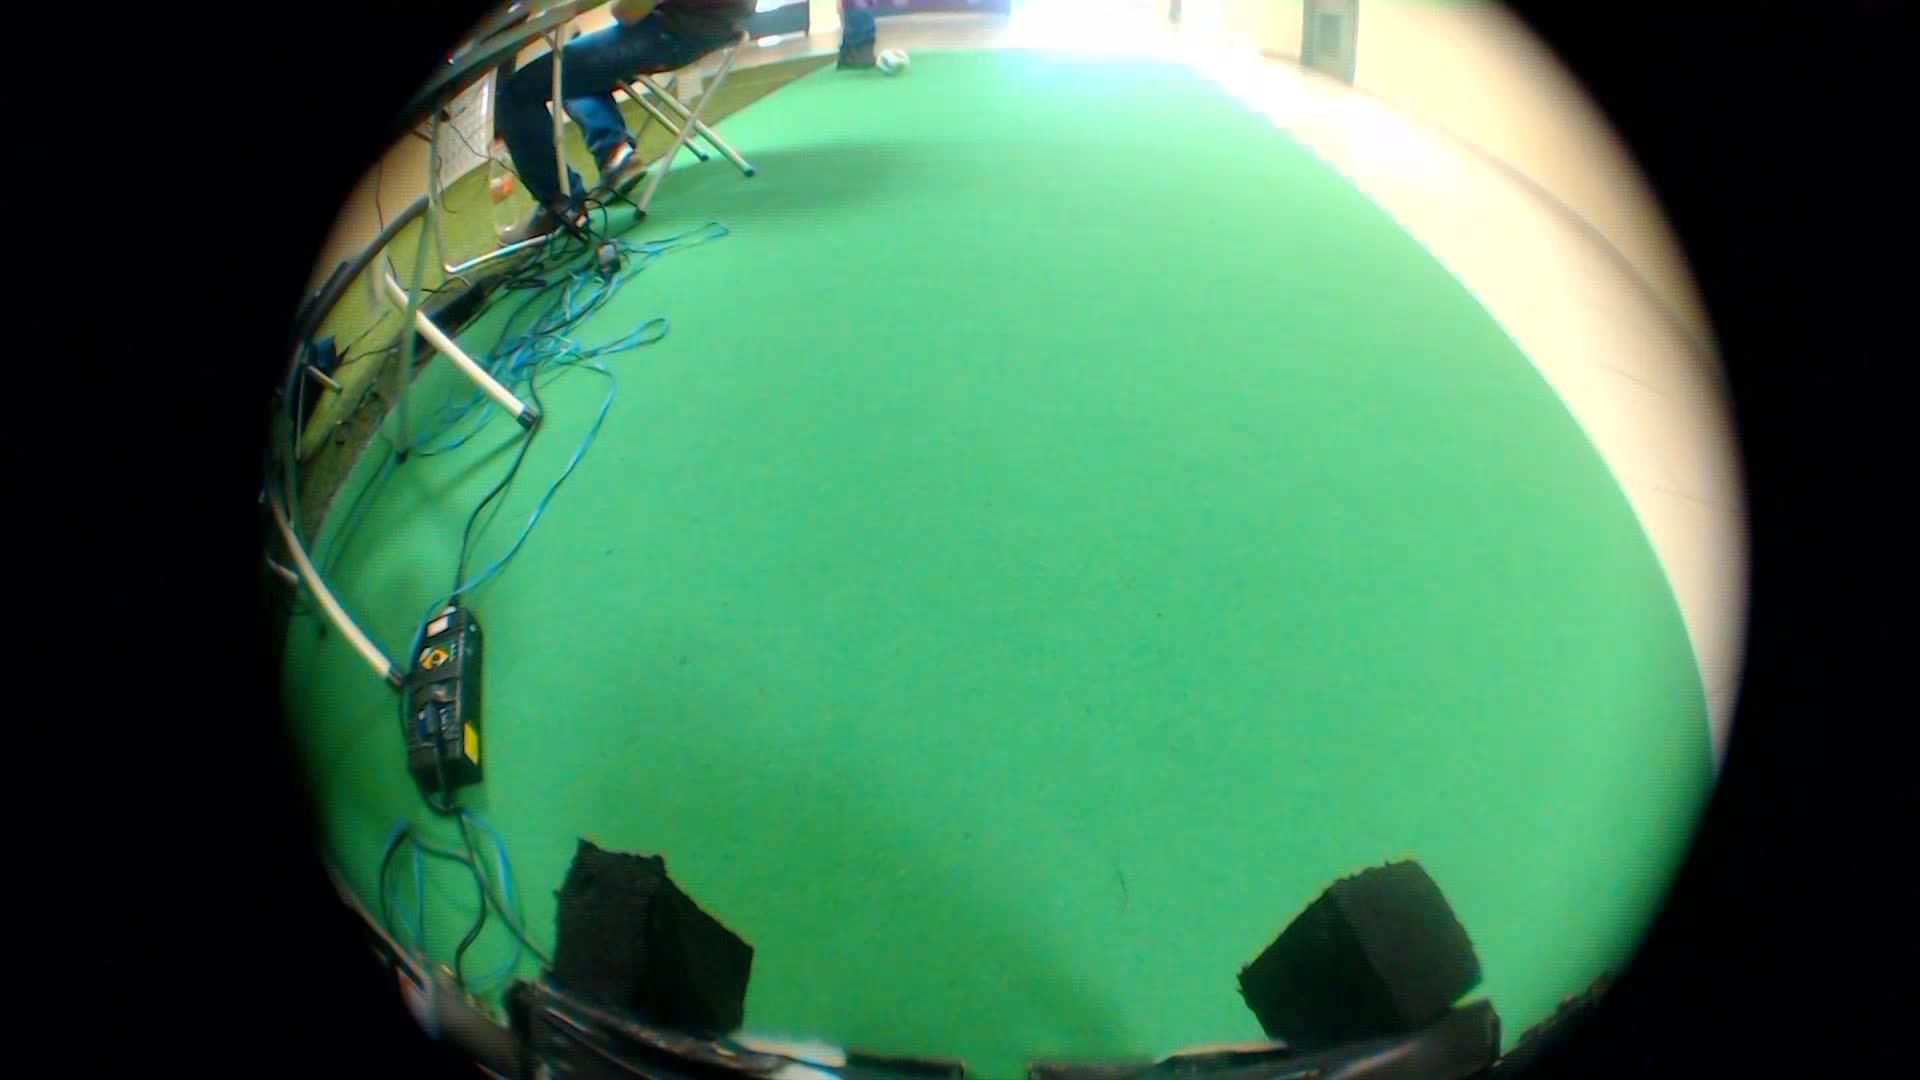ball: (866, 40, 909, 84)
